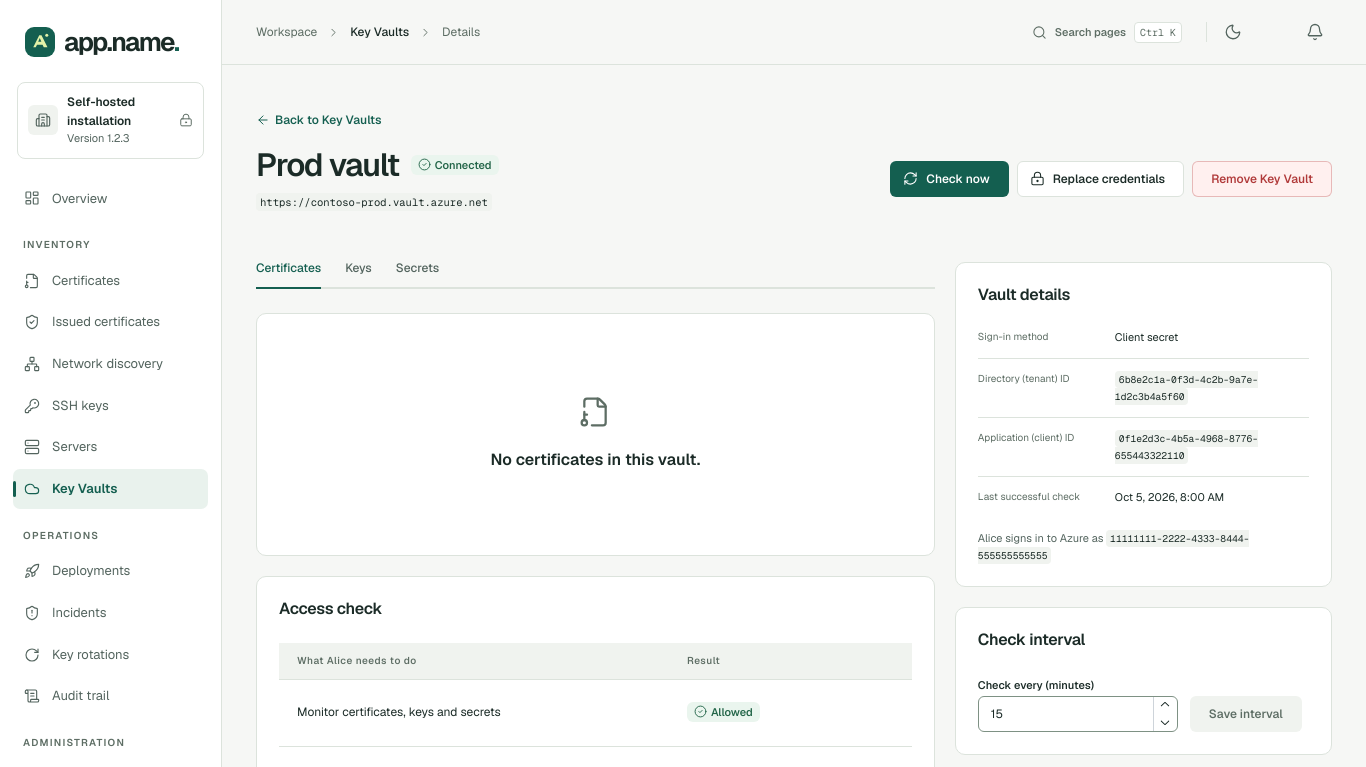
Test case: KeyVaultDetailPage header › actions › shows a held Check now as waiting for an administrator
The width and height of the screenshot is (1366, 767).
Click the button "Check now".
click(949, 179)  # box x1=890 y1=161 x2=1009 y2=197
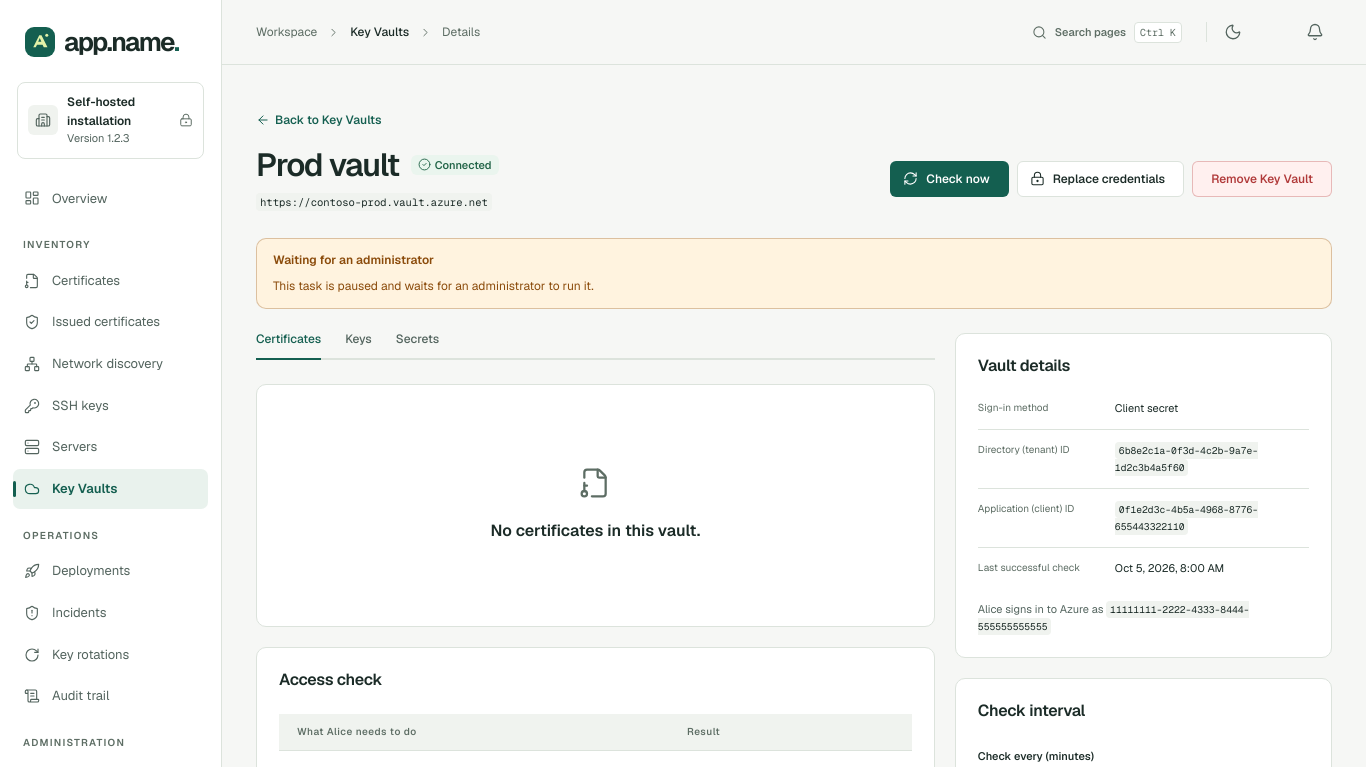
Expected: the text "This task is paused and waits for an administrator to run it." is shown, x1=273 y1=278 x2=594 y2=294
